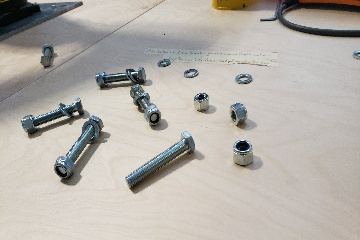Bolt: (123, 131, 198, 191)
FalseAssembly: (52, 114, 105, 183), (18, 94, 88, 140), (40, 42, 54, 68)
FinishedAssembly: (93, 62, 146, 90), (128, 86, 164, 125)
Nut: (232, 138, 254, 166), (228, 99, 249, 128), (193, 90, 211, 112)
Washer: (233, 71, 255, 86), (181, 68, 200, 78), (156, 59, 172, 69)
